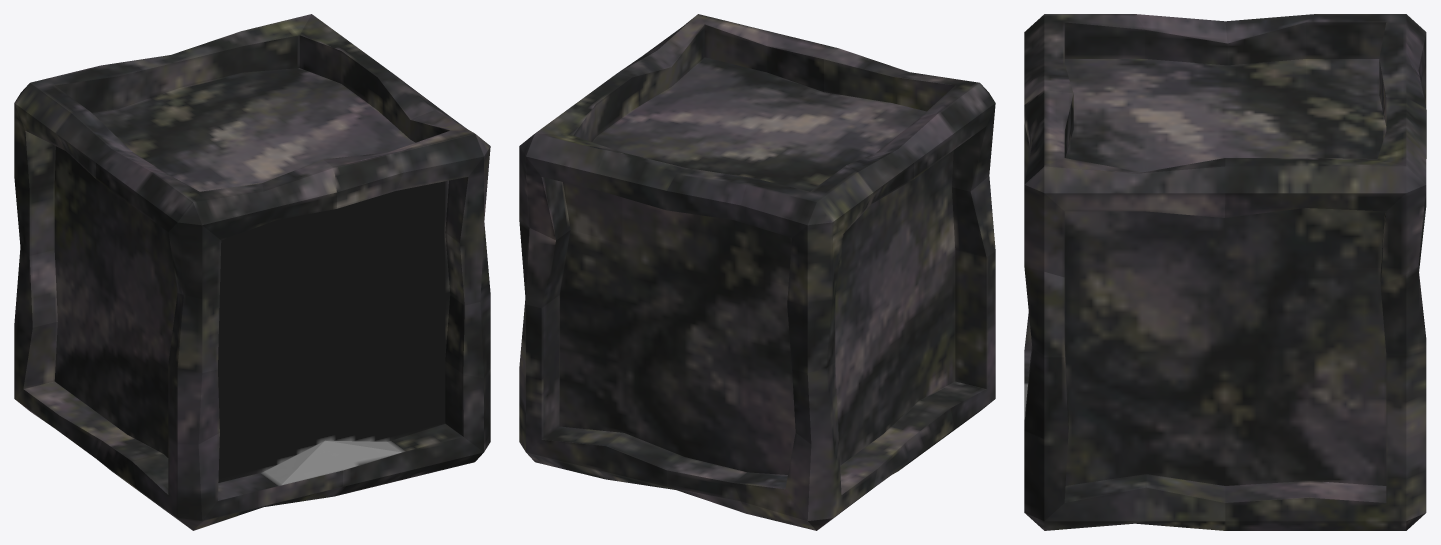
Rendered from Plains Stone Drawer.fbx.
3 renders of one model, left to right at view 1: azimuth 30°, elevation 25°; view 2: azimuth 150°, elevation 25°; view 3: azimuth 270°, elevation 25°, orthographic. The views are drawn at different scales.
Visible parts, largest first — view 1: Cube; view 2: Cube; view 3: Cube.
Boxes of the visible parts, left/top/right/bottom form: Cube: left=14, top=14, right=490, bottom=530; Cube: left=519, top=14, right=995, bottom=530; Cube: left=1024, top=14, right=1426, bottom=530.
Bounding box in the file's own units: 100 × 100 × 100.
Materials: 1 (1 with a texture image).
